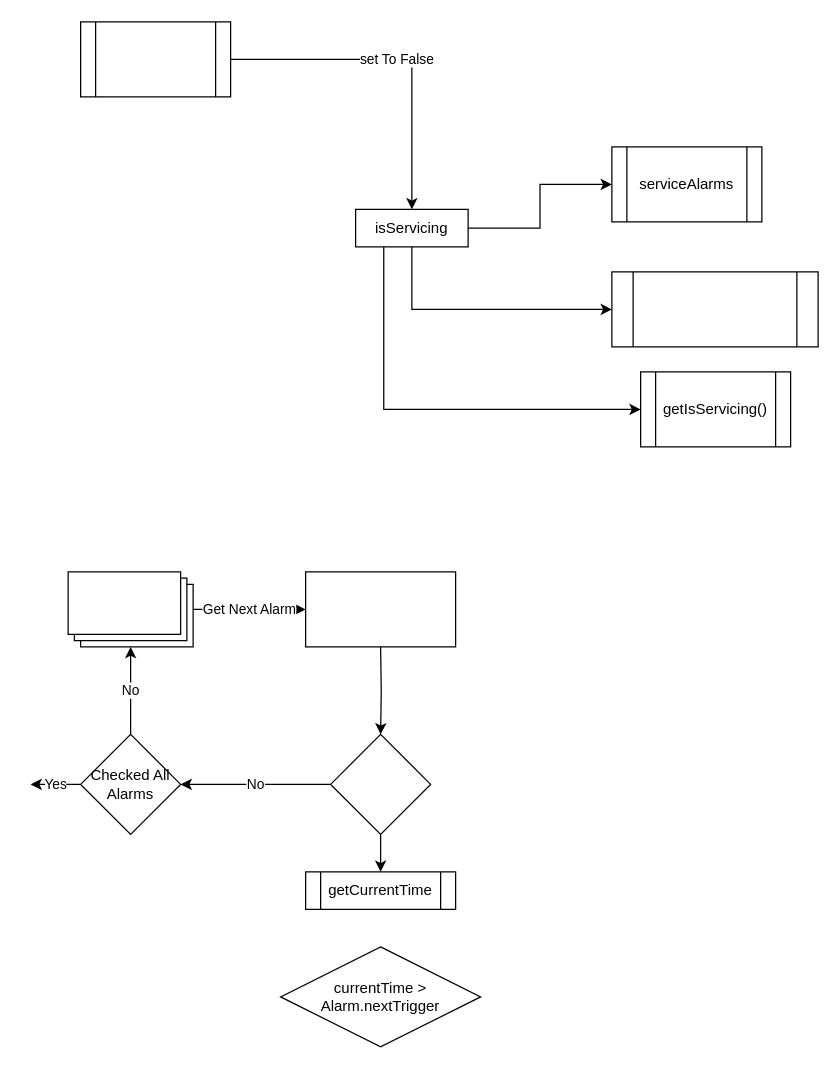
This 840x1069 diagram has some shape labels left out. The shapes that lost their labels are listed below. From the top down, each one's centre as x and y in pixels, then its label:
point 155,59: init
point 714,309: getTriggeredAlarmId()
point 380,783: is Alarm Enabled?
